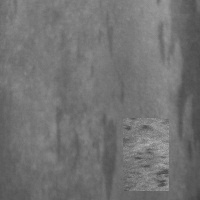inclusion: (156, 1, 198, 163), (51, 54, 89, 177), (92, 109, 119, 195), (96, 10, 117, 58), (112, 75, 126, 106)
rolled-in_scale: (123, 118, 169, 191)
